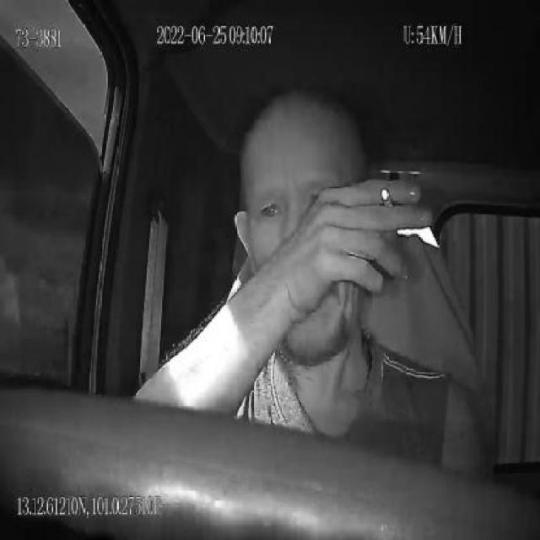smoking: (380, 188, 394, 208)
